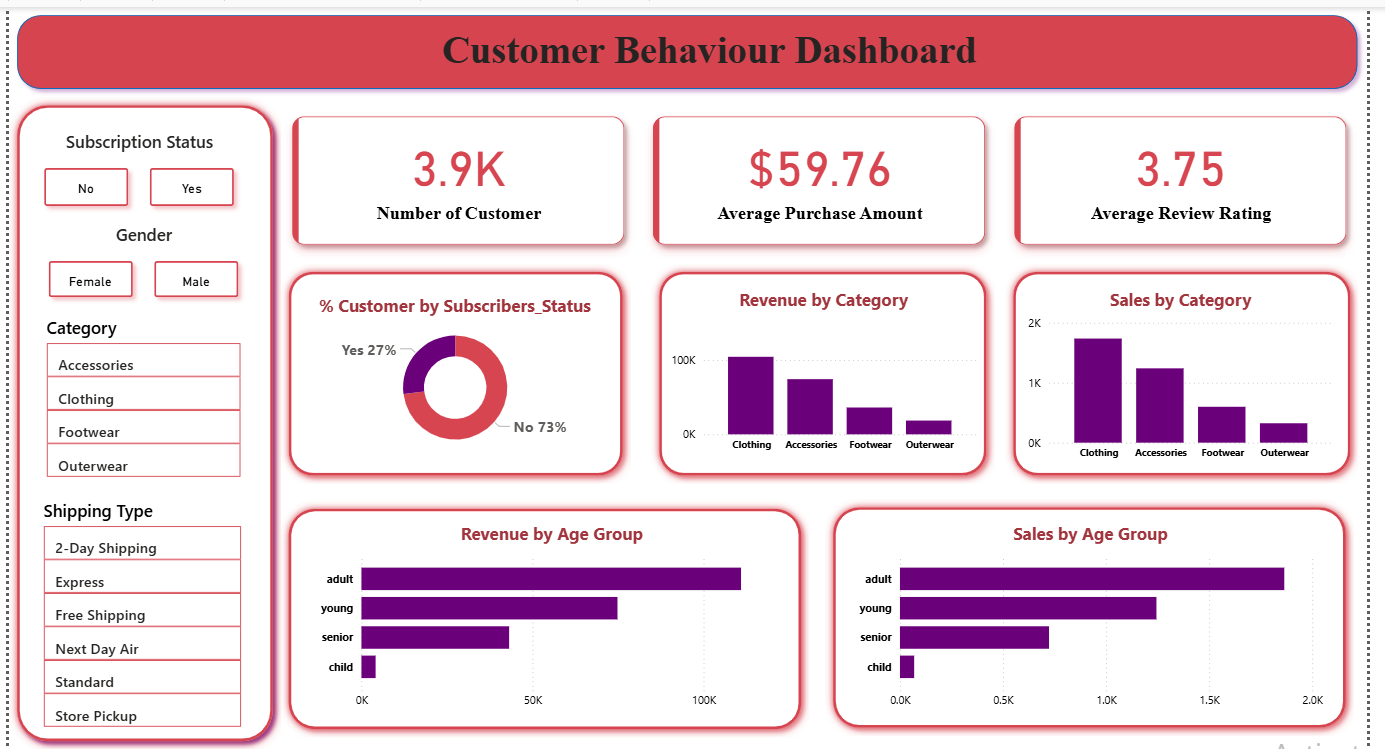

What the dashboard file says about the page in this screenshot:
{"tool":"powerbi","page":{"name":"customer report","canvas":[1500,820],"ordinal":0},"visuals":[{"type":"shape","box":[300.6,545.9,584.6,261.9],"z":0},{"type":"shape","box":[0,0,1499.3,99.6],"z":1000},{"type":"cardVisual","fields":{"Data":["customer customer.no.of customer","customer customer.average of purcahse amt","customer customer.average review rating"]},"box":[291.4,99.6,1207.9,184.4],"z":2000},{"type":"textbox","box":[103.3,18.4,1342.5,64.5],"z":3000},{"type":"shape","box":[710,284,379.9,243.4],"z":4000},{"type":"shape","box":[1100.9,284,391,243.4],"z":5000},{"type":"shape","box":[300.6,284,387.3,243.4],"z":6000},{"type":"donutChart","title":"% Customer by Subscribers_Status","fields":{"Category":["customer customer.subscription_status"],"Y":["customer customer.Number of Customer"]},"box":[317.2,317.2,352.2,182.6],"z":7000},{"type":"clusteredColumnChart","title":"Revenue by Category","fields":{"Category":["customer customer.category"],"Y":["Sum(customer customer.purchase_amount)"]},"box":[726.6,309.8,348.5,189.9],"z":8000},{"type":"clusteredColumnChart","title":"Sales by Category","fields":{"Category":["customer customer.category"],"Y":["customer customer.Number of Customer"]},"box":[1121.2,309.8,348.5,199.2],"z":9000},{"type":"shape","box":[0,99.6,300.6,721.1],"z":10000},{"type":"advancedSlicerVisual","title":"Subscription Status","fields":{"Values":["customer customer.subscription_status"]},"box":[22.1,136.5,245.3,101.4],"z":11000},{"type":"advancedSlicerVisual","title":"Category","fields":{"Values":["customer customer.category"]},"box":[36.9,341.2,225,186.3],"z":12000},{"type":"advancedSlicerVisual","title":"Gender","fields":{"Values":["customer customer.gender"]},"box":[25.8,237.9,245.3,99.6],"z":13000},{"type":"advancedSlicerVisual","title":"Shipping Type","fields":{"Values":["customer customer.shipping_type"]},"box":[33.2,544,228.7,261.9],"z":14000},{"type":"clusteredBarChart","title":"Revenue by Age Group","fields":{"Category":["customer customer.age_group"],"Y":["Sum(customer customer.purchase_amount)"]},"box":[337.5,568,523.7,215.8],"z":15000},{"type":"shape","box":[901.8,544,584.6,261.9],"z":16000},{"type":"clusteredBarChart","title":"Sales by Age Group","fields":{"Category":["customer customer.age_group"],"Y":["customer customer.Number of Customer"]},"box":[933.1,568,523.7,215.8],"z":16001}]}

Visuals, with their boxes in screenshot pixels (x1, y1, x2, y2), scaled from the page's 1500x820 canvas onto the 1385x749 screenshot:
shape: [278, 499, 817, 738]
shape: [0, 0, 1384, 91]
cardVisual - customer customer.no.of customer x customer customer.average of purcahse amt: [269, 91, 1384, 259]
textbox: [95, 17, 1335, 76]
shape: [656, 259, 1006, 482]
shape: [1016, 259, 1378, 482]
shape: [278, 259, 635, 482]
"% Customer by Subscribers_Status" donutChart: [293, 290, 618, 457]
"Revenue by Category" clusteredColumnChart: [671, 283, 993, 456]
"Sales by Category" clusteredColumnChart: [1035, 283, 1357, 465]
shape: [0, 91, 278, 748]
"Subscription Status" advancedSlicerVisual: [20, 125, 247, 217]
"Category" advancedSlicerVisual: [34, 312, 242, 482]
"Gender" advancedSlicerVisual: [24, 217, 250, 308]
"Shipping Type" advancedSlicerVisual: [31, 497, 242, 736]
"Revenue by Age Group" clusteredBarChart: [312, 519, 795, 716]
shape: [833, 497, 1372, 736]
"Sales by Age Group" clusteredBarChart: [862, 519, 1345, 716]
